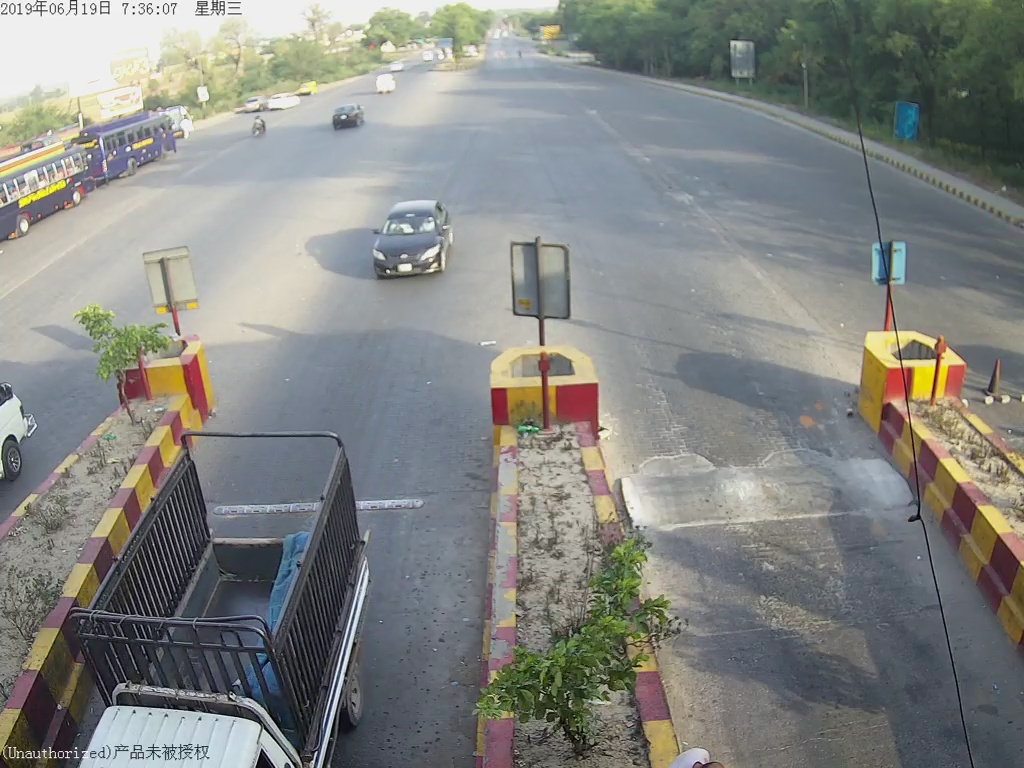Cat-1: (363, 205, 456, 276)
